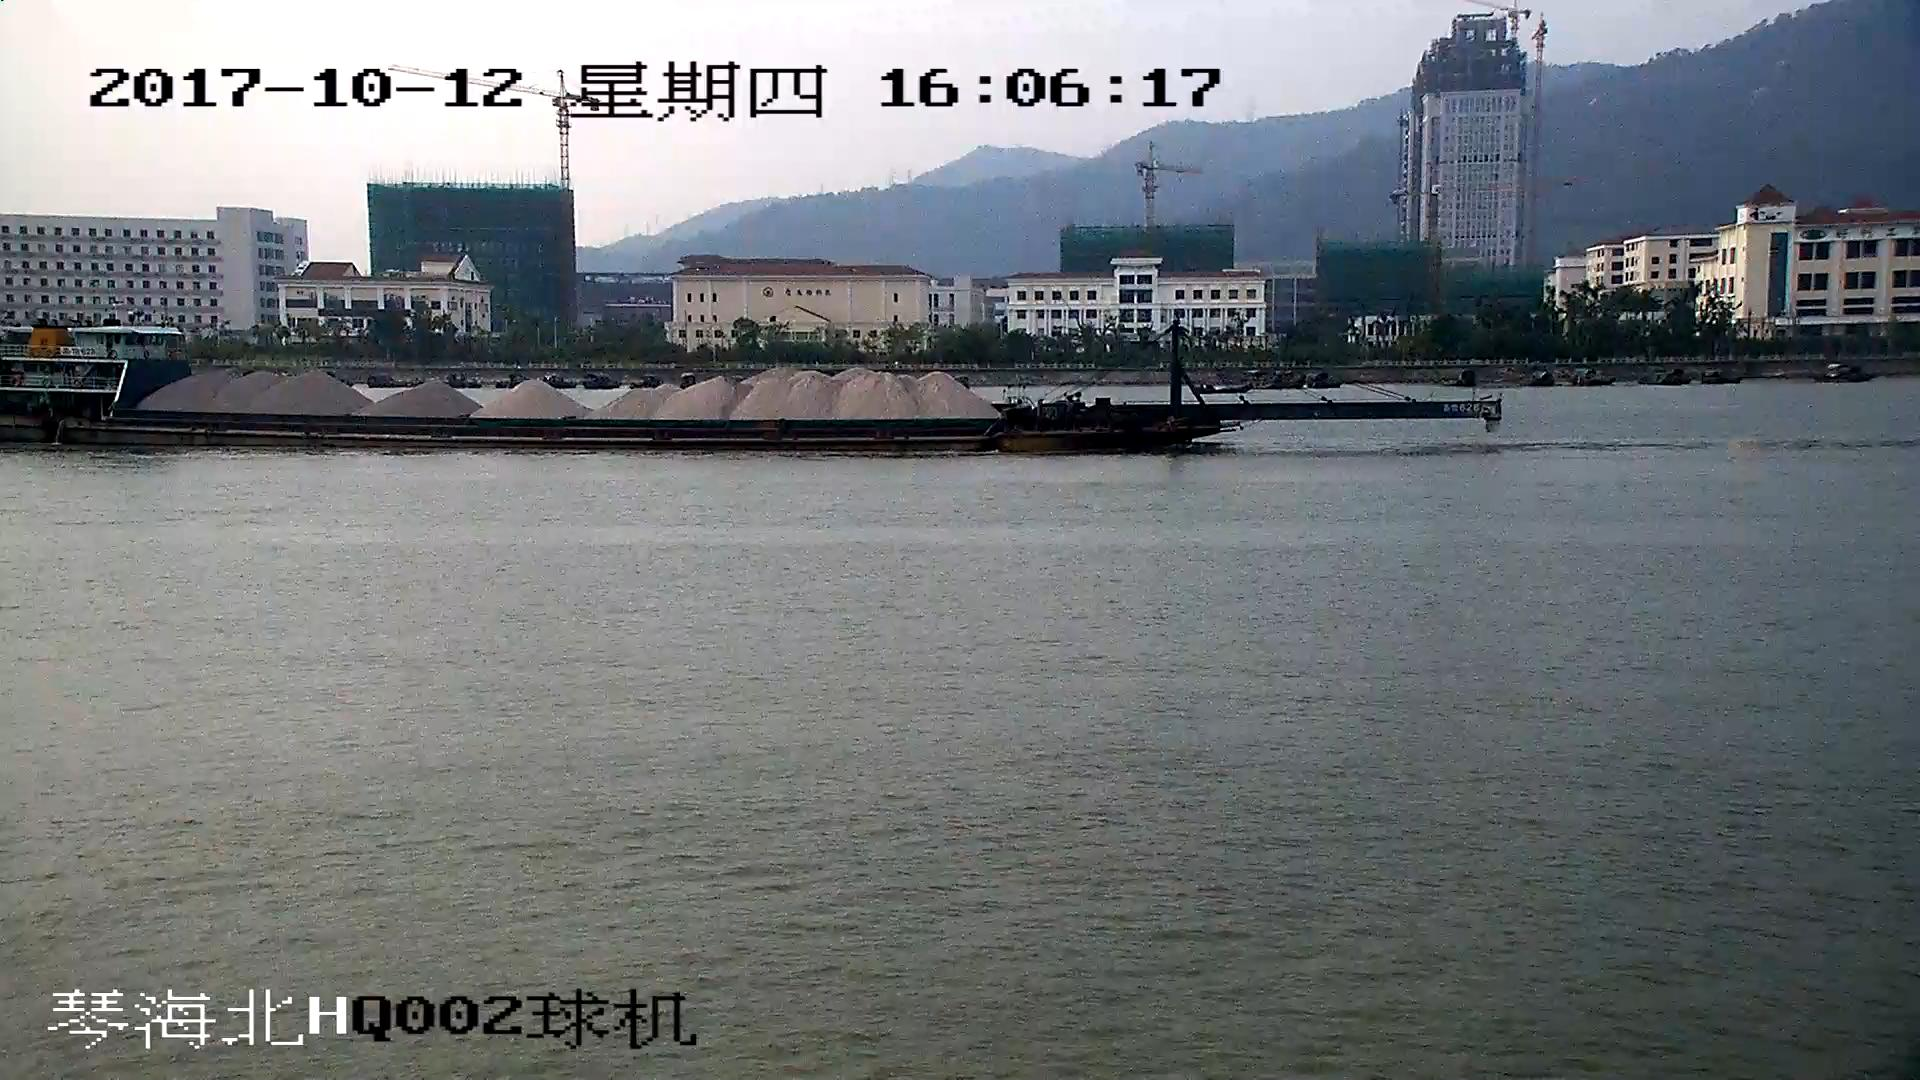ore carrier: (1, 323, 1500, 450)
